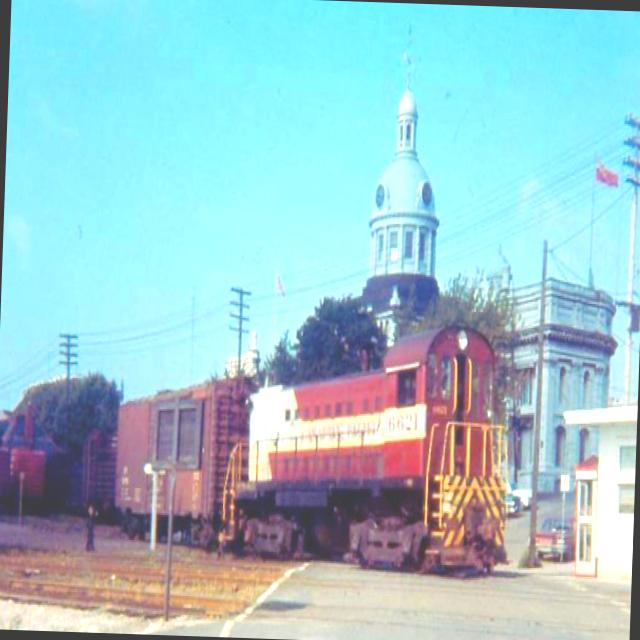Vehicle: (526, 515, 576, 561), (506, 479, 531, 510)
